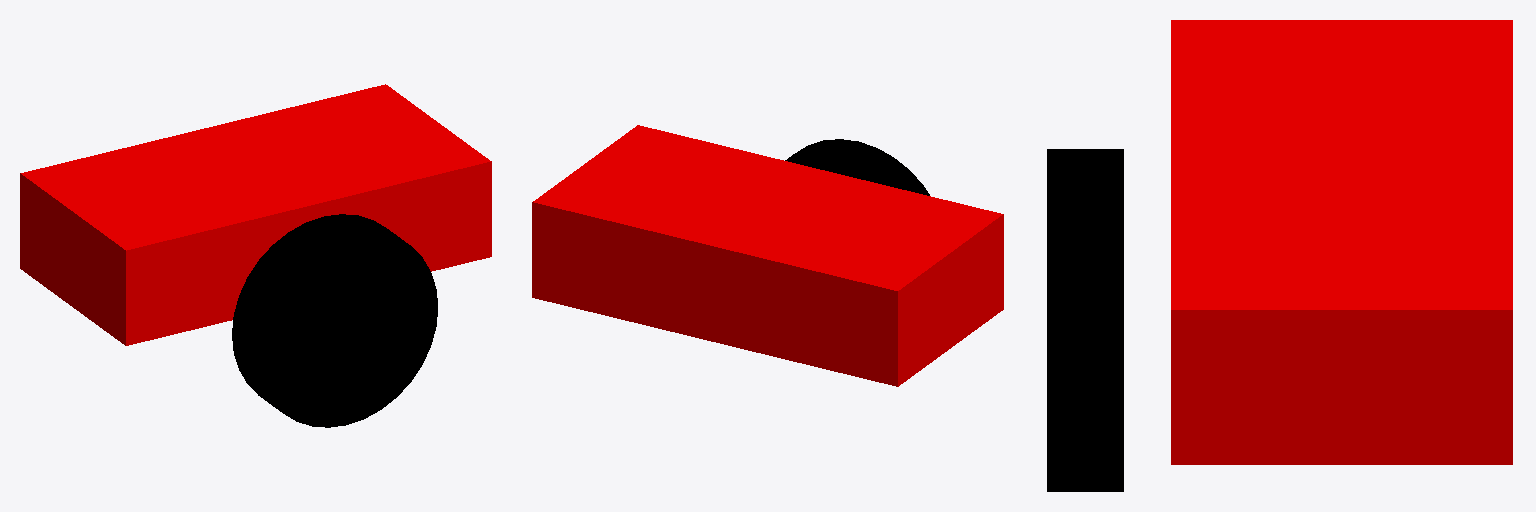
URDF robot description (robo_simples):
<?xml version="1.0"?>
<robot name="robo_simples">

  <!-- Define um elo (link) chamado "base_link" que serve como base do robô -->
  <link name="base_link">
    <visual>
      <!-- Forma geométrica (caixa com dimensões 0.4x0.2x0.1 metros) -->
      <geometry>
        <box size="0.4 0.2 0.1"/>
      </geometry>
      <!-- Cor (vermelho com transparência) -->
      <material name="vermelho">
        <color rgba="1 0 0 0.5"/>
      </material>
    </visual>
    <!-- Propriedades físicas para simulação -->
    <collision>
      <geometry>
        <box size="0.4 0.2 0.1"/>
      </geometry>
    </collision>
    <inertial>
      <mass value="2.0"/>
      <inertia ixx="0.01" ixy="0" ixz="0" iyy="0.01" iyz="0" izz="0.01"/>
    </inertial>
  </link>

  <!-- Define um segundo elo para uma roda -->
  <link name="roda_direita">
    <visual>
      <geometry>
        <cylinder length="0.045" radius="0.1"/>
      </geometry>
      <material name="preto">
        <color rgba="0 0 0 1"/>
      </material>
    </visual>
  </link>

  <!-- Define uma junta que conecta a roda à base -->
  <joint name="junta_roda_direita" type="continuous">
    <parent link="base_link"/>
    <child link="roda_direita"/>
    <!-- 
      Origem ajustada:
      - xyz: posiciona a roda 0.15m para a esquerda (Y negativo) e 0.05m para baixo (Z negativo)
      - rpy: rotaciona a roda 90° em Y (para deixá-la horizontal, paralela ao eixo X)
    -->
    <origin xyz="0 -0.15 -0.05" rpy="1.5708 0  0"/>
    <!-- Eixo de rotação (x,y,z) -->
    <axis xyz="0 0 1"/>
  </joint>

</robot>

--- Facts derived from the render (not from the file) ---
Views: 3 orthographic renders of the robot side by side, from view 1: azimuth 30°, elevation 25°; view 2: azimuth 150°, elevation 25°; view 3: azimuth 270°, elevation 25°.
Model robo_simples with 2 links and 1 joints (1 continuous), rooted at base_link, posed all joints at 0.
Visible links, largest first — view 1: base_link, roda_direita; view 2: base_link, roda_direita; view 3: base_link, roda_direita.
Boxes of the visible links, x1,y1,x2,y2 form: base_link: (20,84,491,345); roda_direita: (232,214,437,427); base_link: (532,125,1003,386); roda_direita: (785,139,929,195); base_link: (1171,20,1512,464); roda_direita: (1047,149,1123,491).
Bounding box of the posed robot: 0.4 × 0.2725 × 0.2 m (x, y, z).
Geometry: primitives only (box / cylinder / sphere), no mesh files.